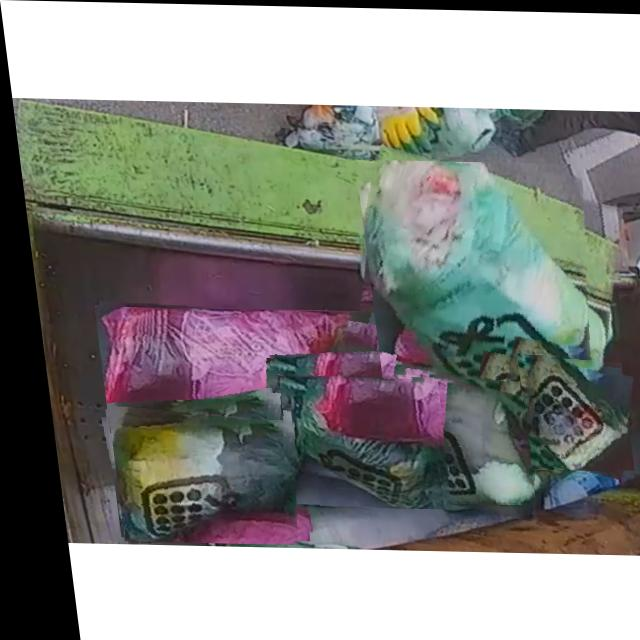general_trashbag: (359, 160, 585, 393), (103, 415, 284, 542), (270, 375, 429, 507), (412, 378, 521, 502), (515, 354, 612, 468)
other_trashbag: (94, 307, 375, 427)
